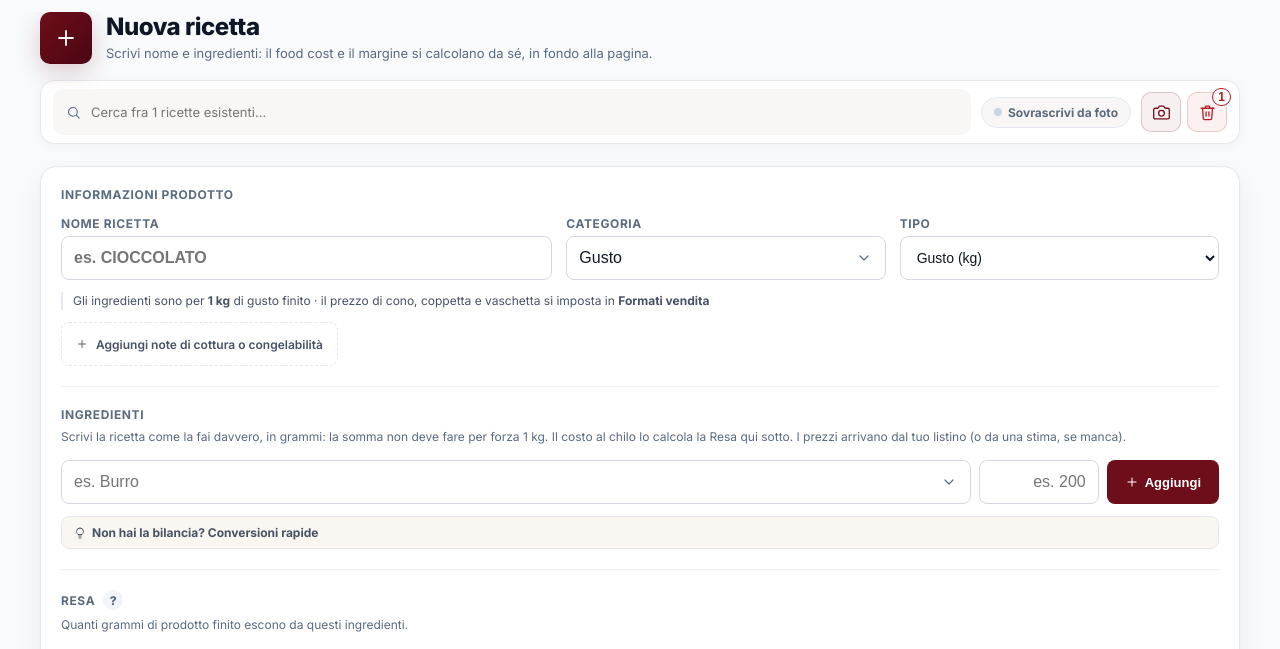
Test: In Nuovo gusto un ingrediente inventato non entra › un ingrediente che esiste entra senza storie
The width and height of the screenshot is (1280, 649).
Type "Panna" into the dropdown named "Nome ingrediente da aggiungere".
click(516, 482); type("Panna")  # box [61,460,971,504]
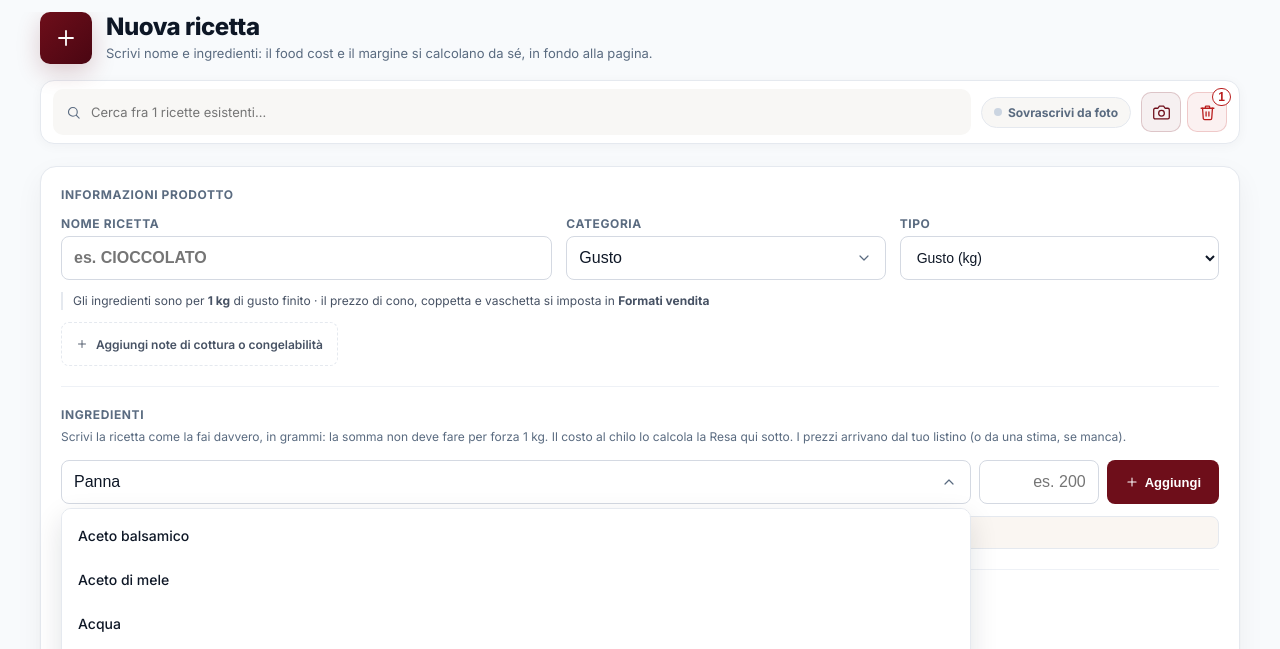
Type "300" into the field named "Grammi di ingrediente da aggiungere".
click(1039, 482); type("300")  # box [979,460,1099,504]
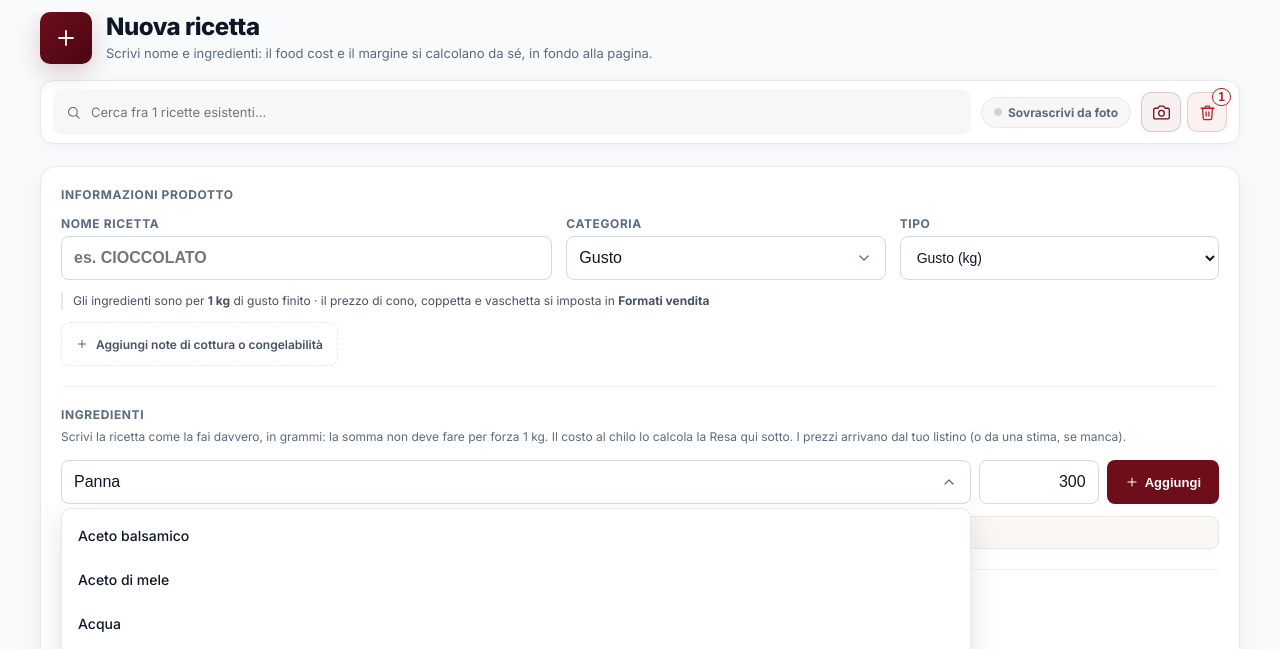
Click the button with aria-label "Aggiungi ingrediente alla ricetta".
click(1163, 482)  # box [1107,460,1219,504]
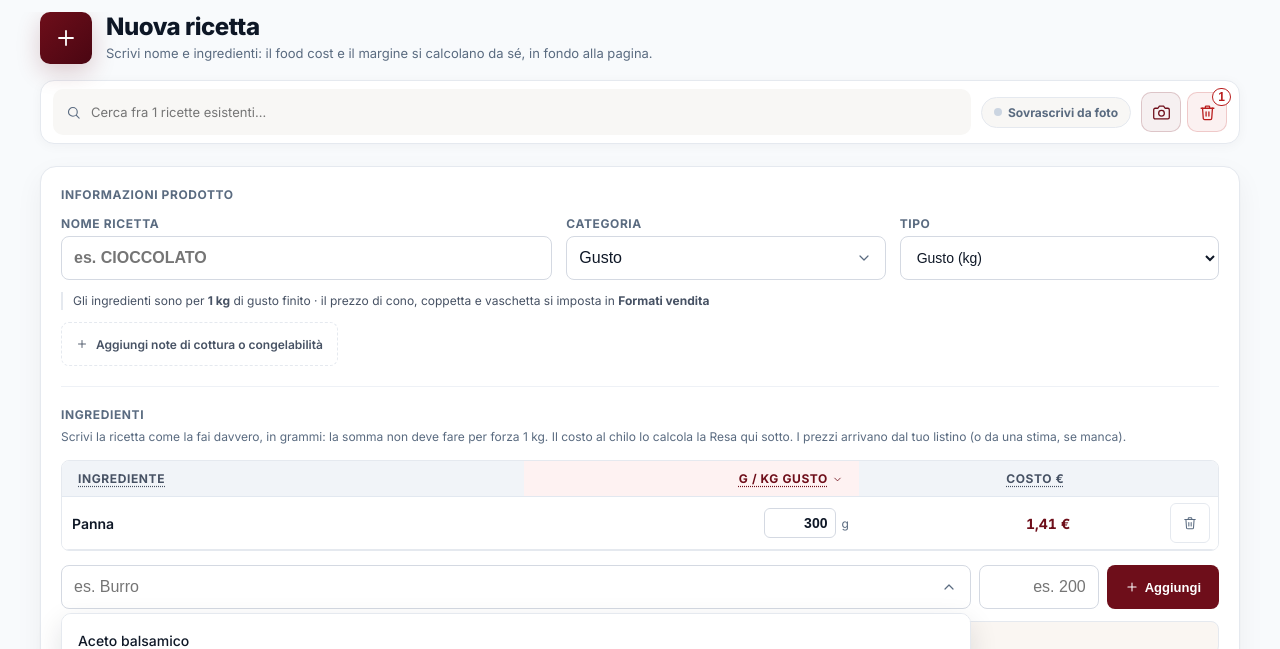
Now the text "Panna" is shown, box [72,514,114,532]
